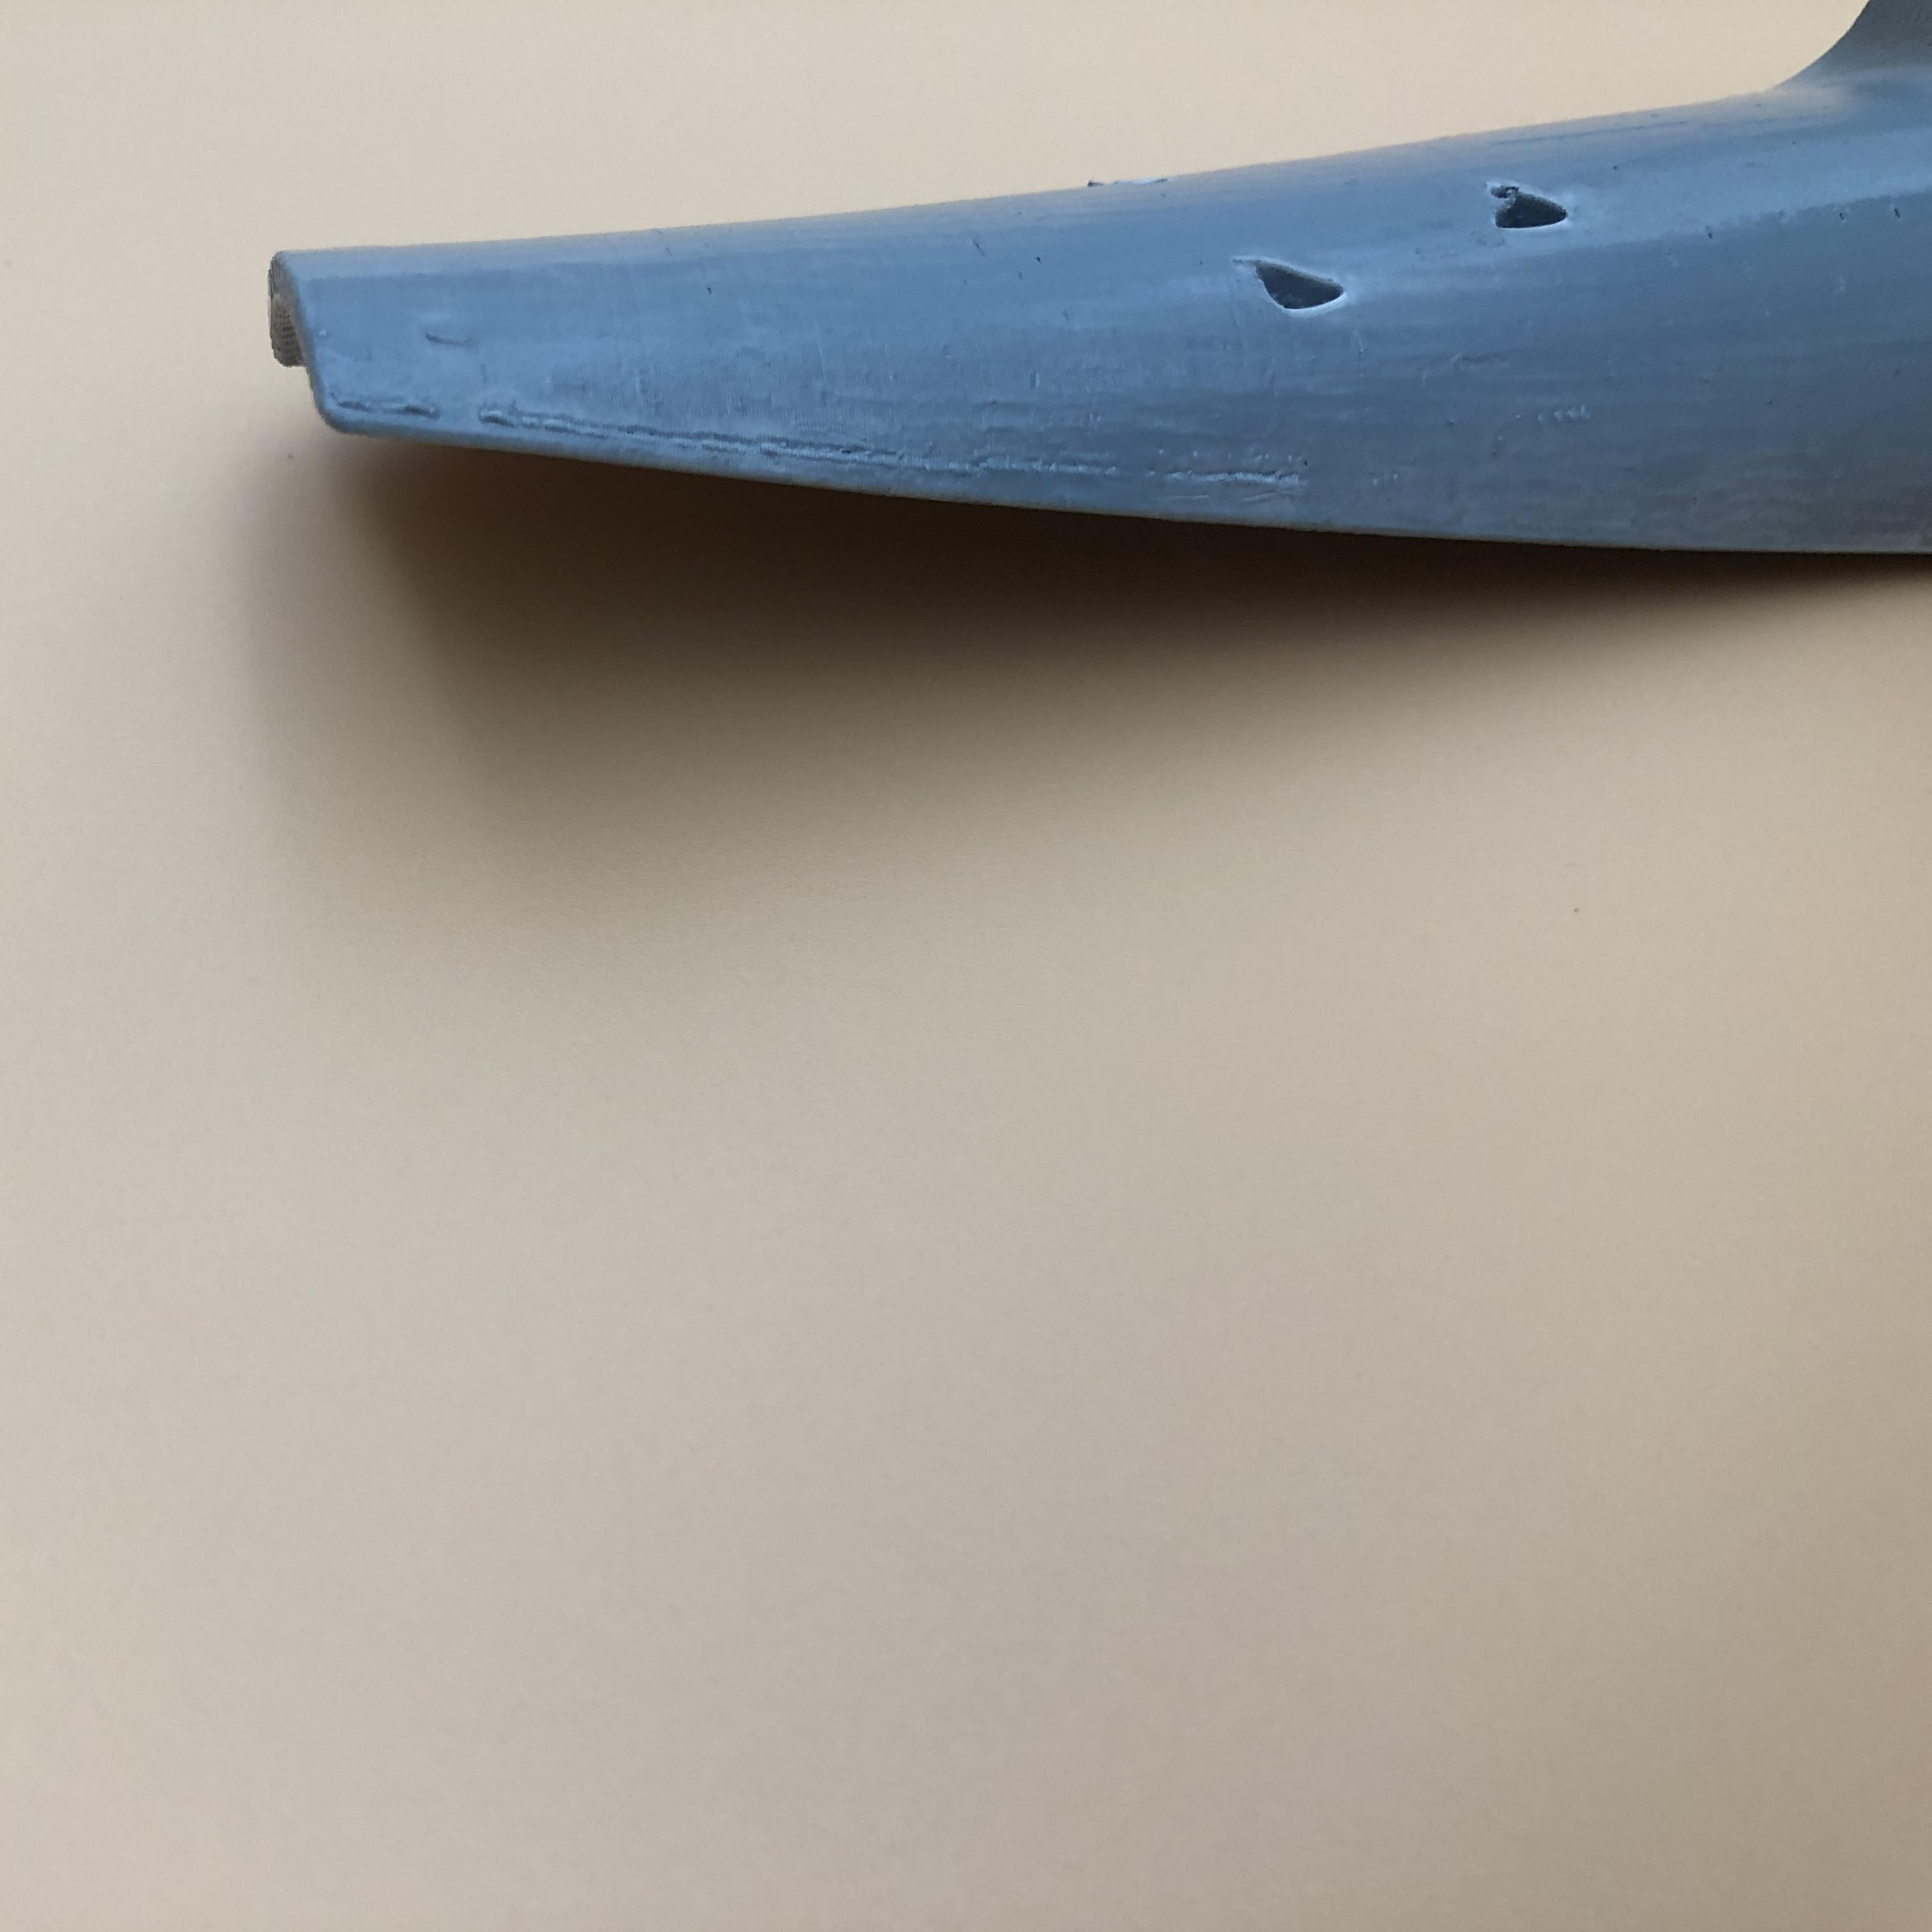breakdown: (1240, 237, 1361, 322), (1495, 163, 1585, 230)
